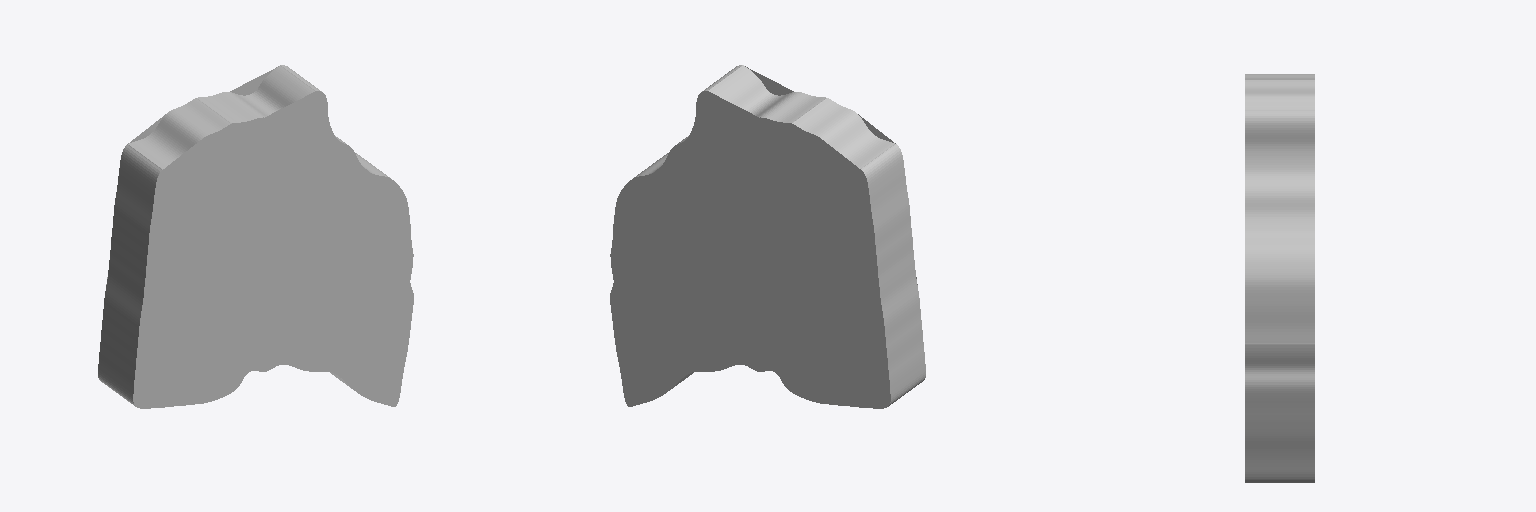
The picture shows the model from 3 angles: view 1: azimuth 30°, elevation 25°; view 2: azimuth 150°, elevation 25°; view 3: azimuth 270°, elevation 25°; orthographic projection.
Parts seen in each view (by area): view 1: 平面; view 2: 平面; view 3: 平面.
Part boxes in pixels (left/top/right/bottom): 平面: left=98, top=65, right=413, bottom=408; 平面: left=610, top=65, right=925, bottom=408; 平面: left=1245, top=74, right=1314, bottom=482.
Bounding box in the file's own units: 0.92 × 1.05 × 0.2.